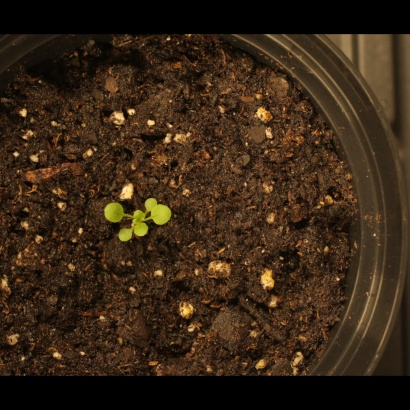leaf: (103, 202, 126, 225), (111, 225, 134, 248), (134, 224, 157, 247), (152, 206, 175, 229), (144, 189, 167, 212), (127, 205, 150, 228)
